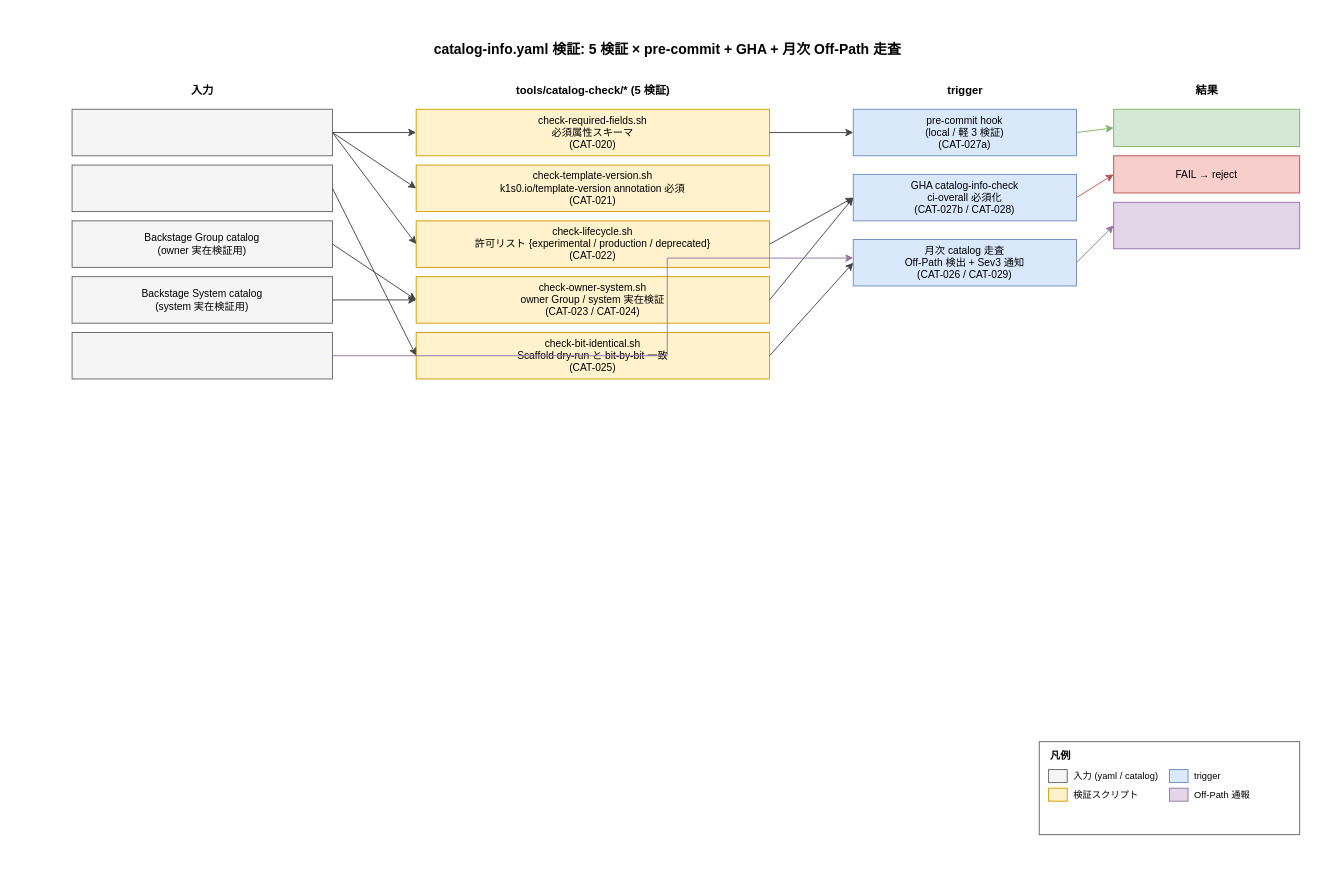
This 1334x869 diagram has some shape labels left out. The shapes that lost their labels are listed below. From the top down, each one's centre as x and y in pixels, then its label:
(x=201, y=132): 各 component の catalog-info.yaml
(x=1206, y=127): OK (Backstage 同期)
(x=201, y=188): Scaffold CLI dry-run 出力 (bit 一致比較用)
(x=1206, y=225): Off-Path repo 一覧 DX-SCAF-033 連動
(x=201, y=355): GitHub repo 一覧 (Off-Path 検出用)
